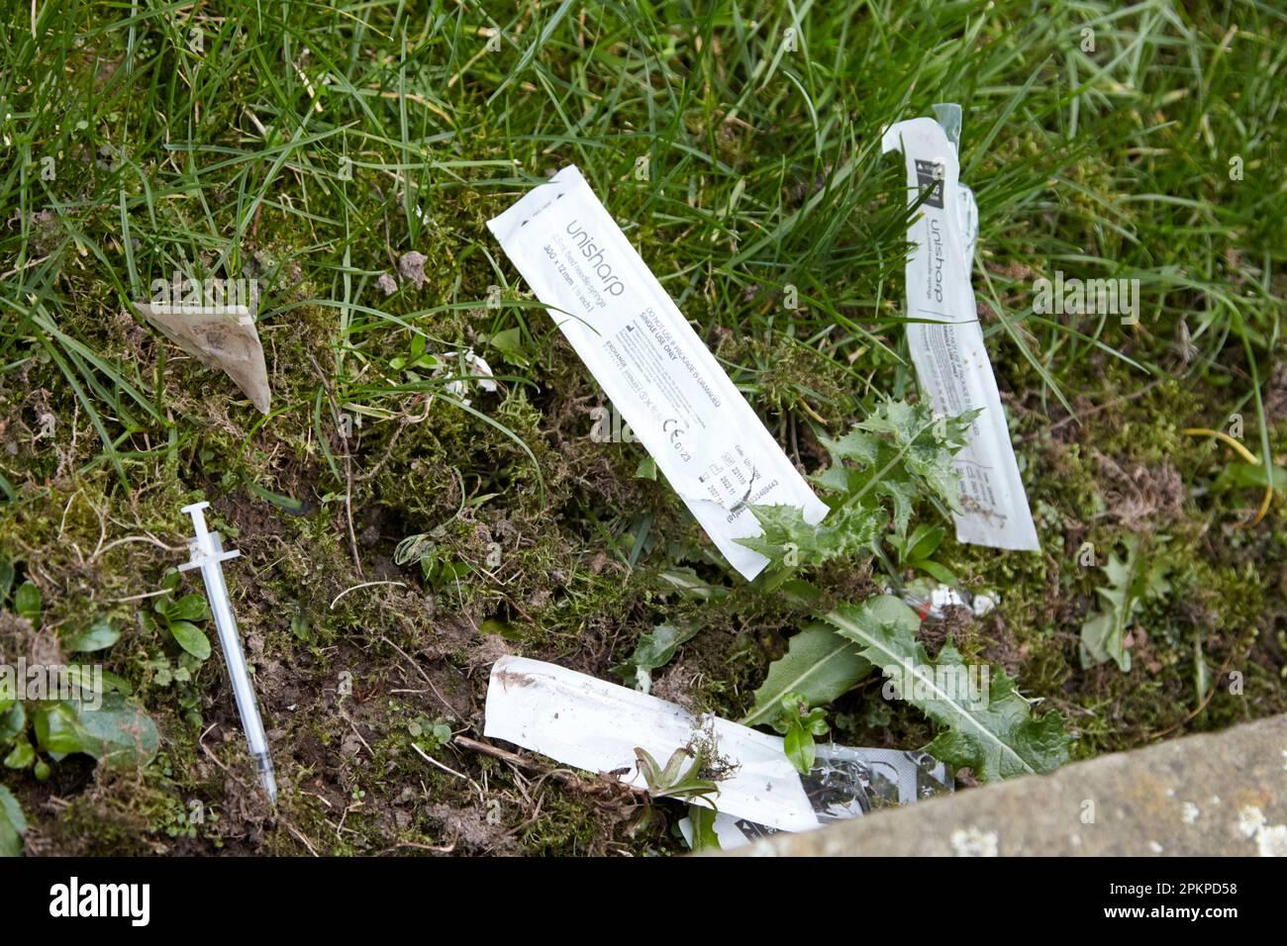Syringe: (179, 502, 276, 804)
